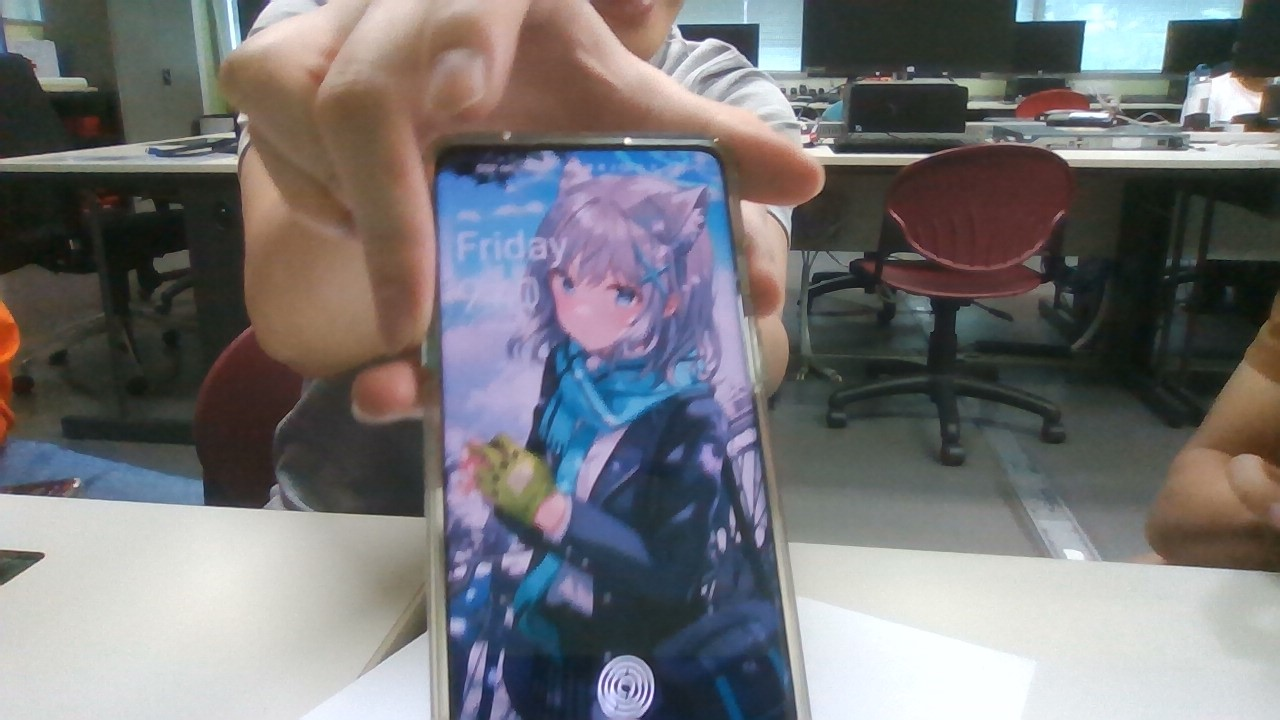phone: (424, 132, 813, 720)
